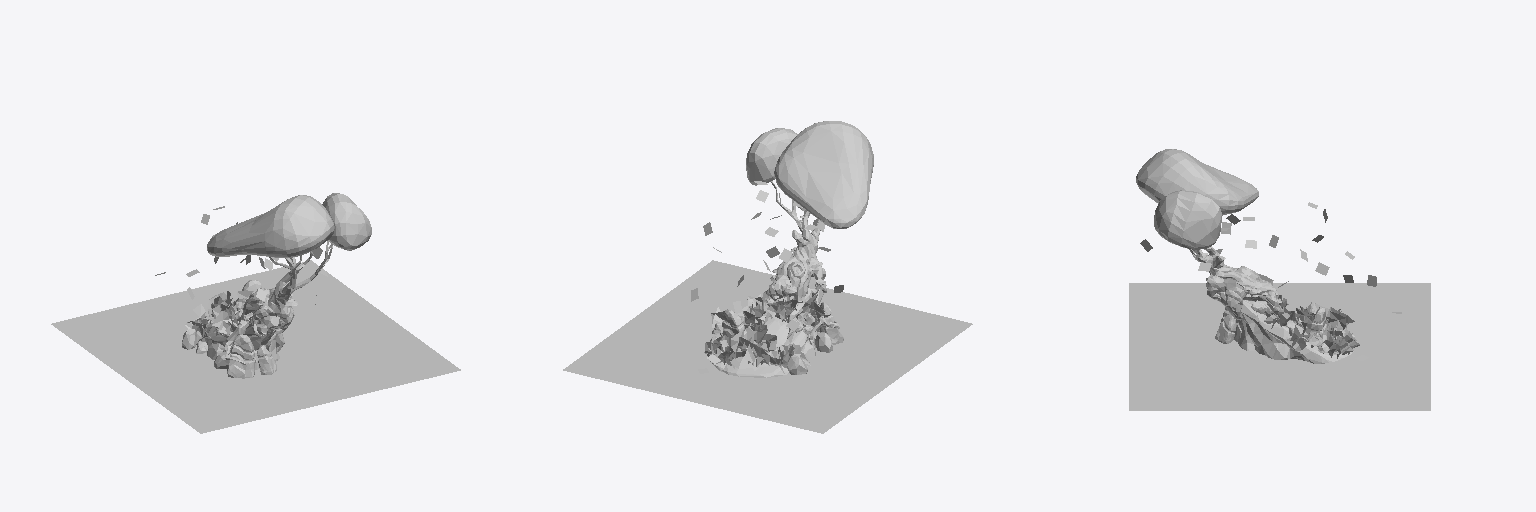
3 views of the same model, side by side, from view 1: azimuth 30°, elevation 25°; view 2: azimuth 150°, elevation 25°; view 3: azimuth 270°, elevation 25° (orthographic).
Visible parts, largest first — view 1: Plane001, Object009, Group54563, ZBrush_defualt_group004, Object002; view 2: Plane001, Object009, Group54563, ZBrush_defualt_group004; view 3: Plane001, Object009, ZBrush_defualt_group004, Group54563.
Part boxes in pixels (left/top/right/bottom): Plane001: left=51, top=260, right=460, bottom=433; Object009: left=207, top=193, right=371, bottom=257; Group54563: left=223, top=241, right=332, bottom=364; ZBrush_defualt_group004: left=196, top=316, right=284, bottom=369; Object002: left=227, top=334, right=255, bottom=378; Plane001: left=563, top=260, right=972, bottom=433; Object009: left=746, top=121, right=873, bottom=228; Group54563: left=746, top=181, right=839, bottom=347; ZBrush_defualt_group004: left=712, top=268, right=826, bottom=377; Plane001: left=1129, top=283, right=1430, bottom=410; Object009: left=1136, top=149, right=1258, bottom=249; ZBrush_defualt_group004: left=1206, top=282, right=1355, bottom=363; Group54563: left=1189, top=246, right=1306, bottom=337.
Bounding box in the file's own units: 654 × 468 × 654.